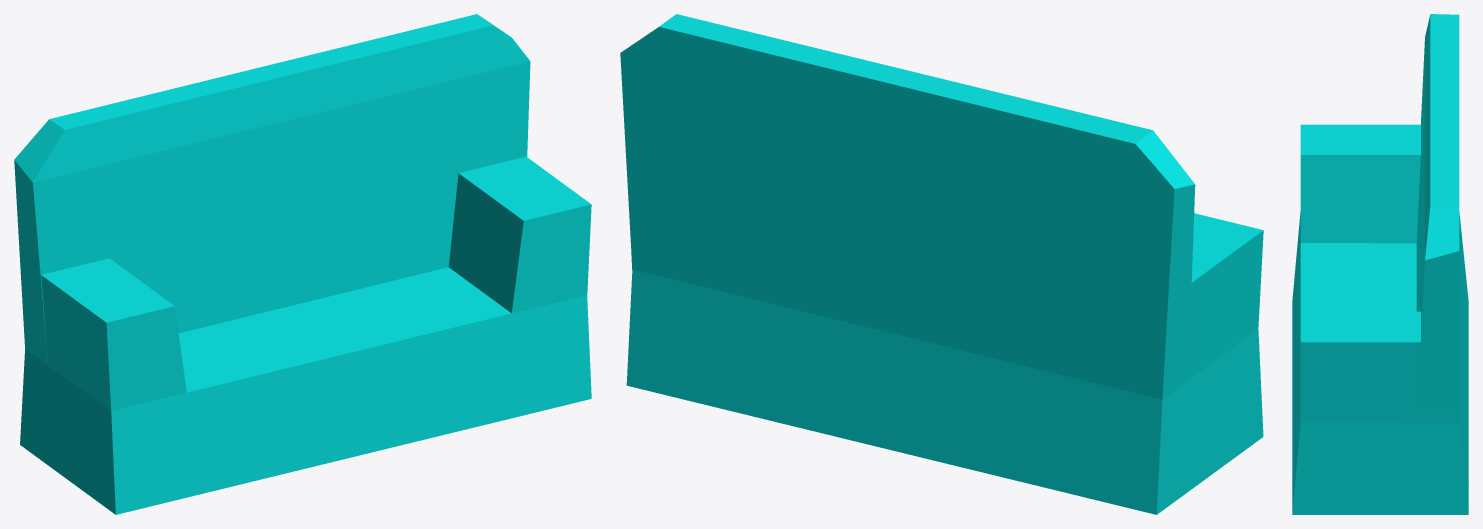
Rendered from SM_Prop_Couch_02_Collision.fbx.
3 views of the same model, side by side, from view 1: azimuth 30°, elevation 25°; view 2: azimuth 150°, elevation 25°; view 3: azimuth 270°, elevation 25° (orthographic). The views are drawn at different scales.
Visible parts, largest first — view 1: SM_Prop_Couch_02_Collision; view 2: SM_Prop_Couch_02_Collision; view 3: SM_Prop_Couch_02_Collision.
Boxes of the visible parts, <box> form: SM_Prop_Couch_02_Collision: <box>14,14,591,514</box>; SM_Prop_Couch_02_Collision: <box>620,14,1263,514</box>; SM_Prop_Couch_02_Collision: <box>1292,14,1468,514</box>.
Bounding box in the file's own units: 257 × 160 × 85.83.
